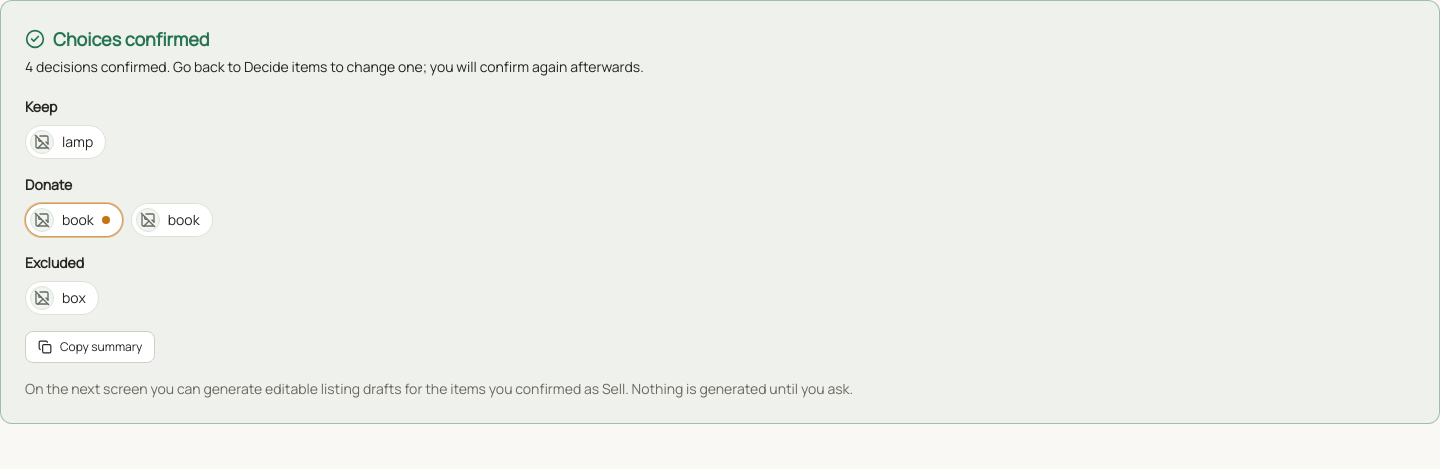
DeclutterConfirmationPanel confirmed-choices summary › copy failure is generic and does not alter the summary
The width and height of the screenshot is (1440, 469).
Click the button "Copy summary".
click(90, 347)  # box 25,331 -> 155,363
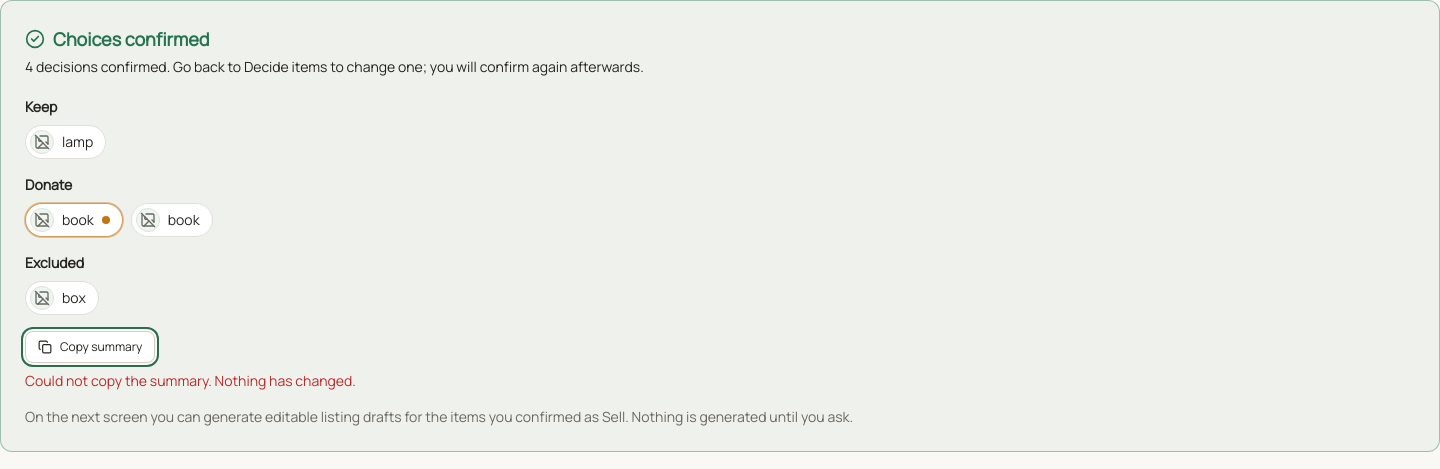
Expected: the text "lamp" is shown, 62,132 -> 93,152
Expected: the text "Could not copy the summary. Nothing has changed." is shown, 25,371 -> 356,390
